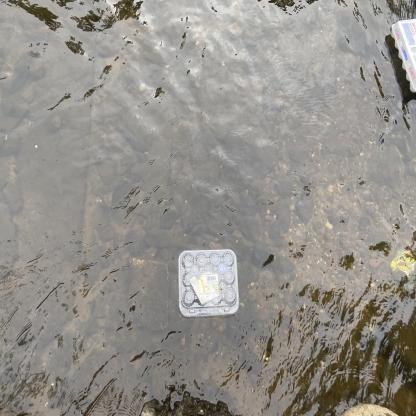trash: (173, 244, 245, 322), (386, 16, 416, 102), (386, 241, 416, 289)
